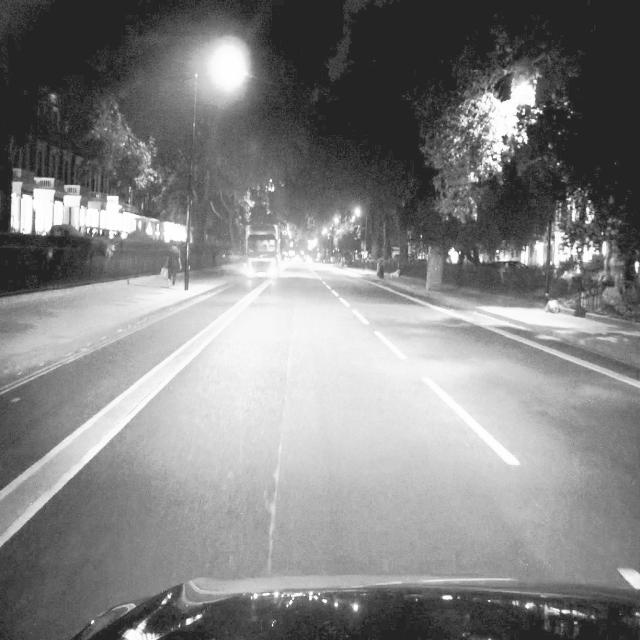Truck: (244, 223, 281, 281)
